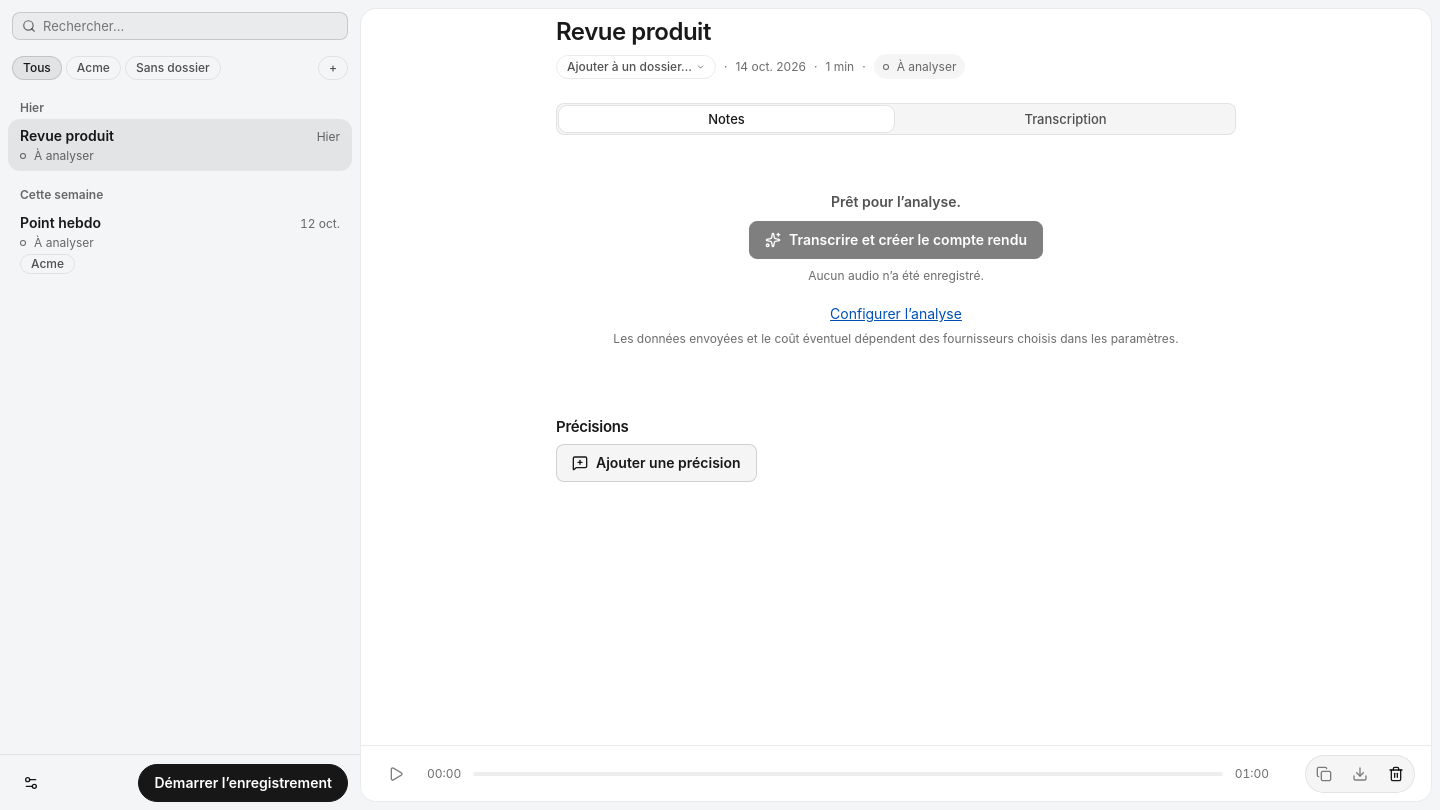
Test: The menu of a meeting row › deletes the right-clicked row once confirmed, leaving the card on the other meeting
Right-click the option "Point hebdo 12 oct. À analyser Acme" at (60, 222), box x1=8 y1=206 x2=352 y2=282
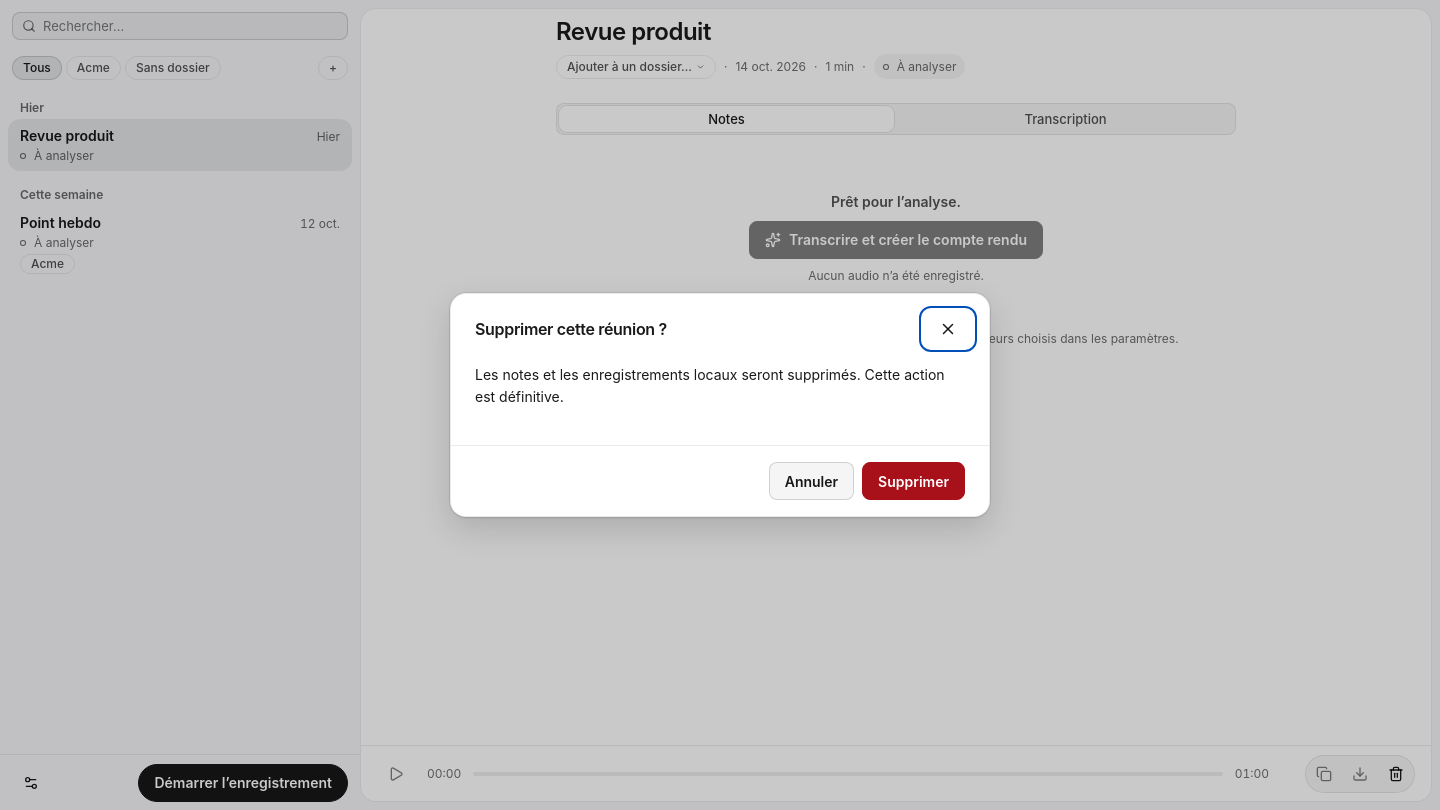
Click the button "Supprimer" at (914, 481), box x1=862 y1=462 x2=965 y2=500
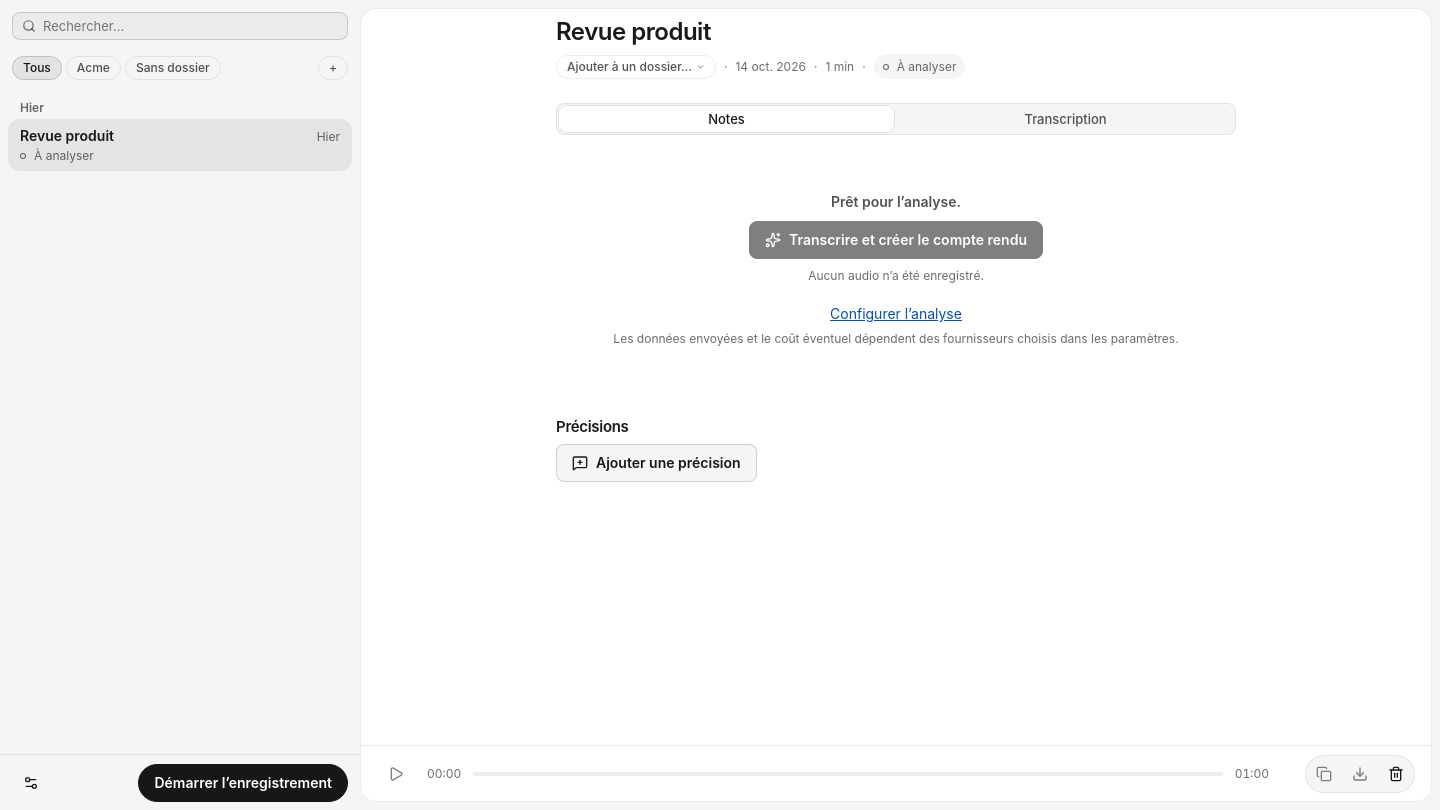
Check: the heading "Revue produit" is shown, box x1=556 y1=17 x2=711 y2=46
Check: the option "Point hebdo" is gone
